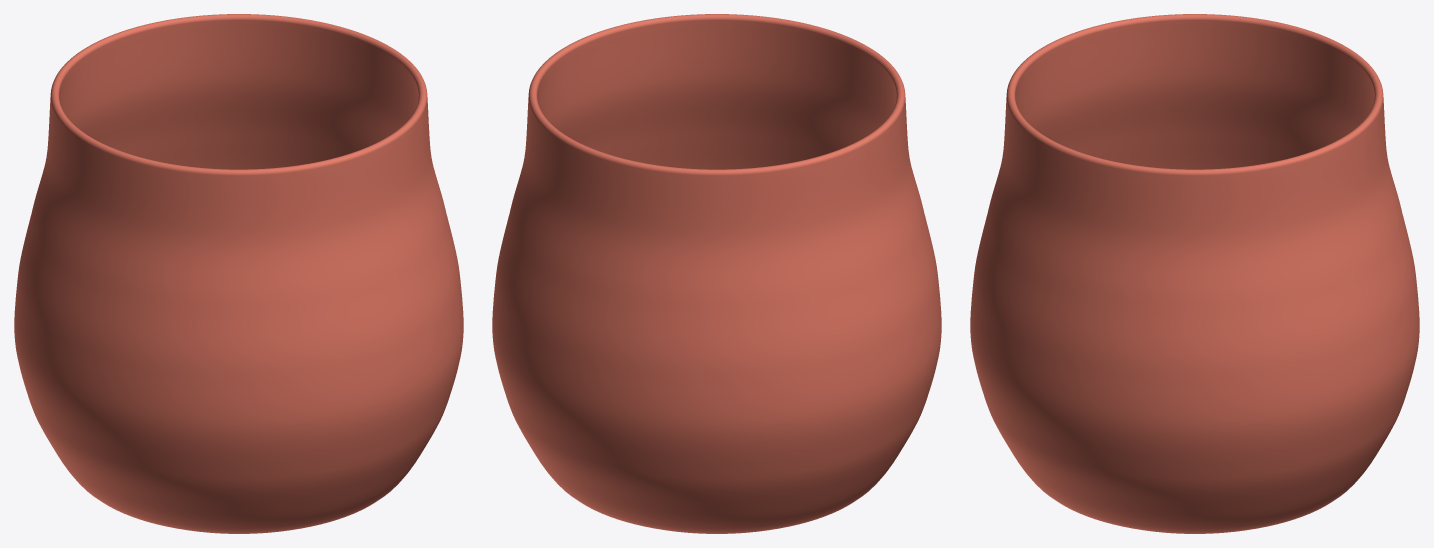
File: loop-shaped-coral.glb
The picture shows the model from 3 angles, left to right: view 1: azimuth 30°, elevation 25°; view 2: azimuth 150°, elevation 25°; view 3: azimuth 270°, elevation 25°; orthographic projection.
Parts seen in each view (by area): view 1: Loop open rounded pot; view 2: Loop open rounded pot; view 3: Loop open rounded pot.
Boxes of the visible parts, x1=… form: Loop open rounded pot: x1=14, y1=14, x2=463, y2=533; Loop open rounded pot: x1=492, y1=14, x2=941, y2=533; Loop open rounded pot: x1=970, y1=14, x2=1419, y2=533.
Bounding box in the file's own units: 0.13 × 0.12 × 0.13.
